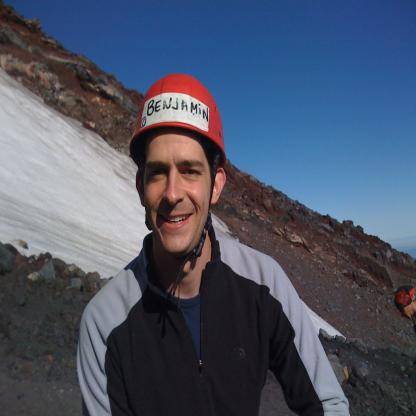Helmet: (127, 71, 229, 252), (393, 287, 416, 313)
